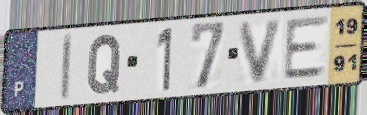1: (155, 25, 173, 94)
7: (189, 19, 226, 91)
E: (281, 13, 331, 82)
I: (59, 32, 74, 103)
Q: (85, 32, 125, 97)
V: (237, 16, 287, 86)
